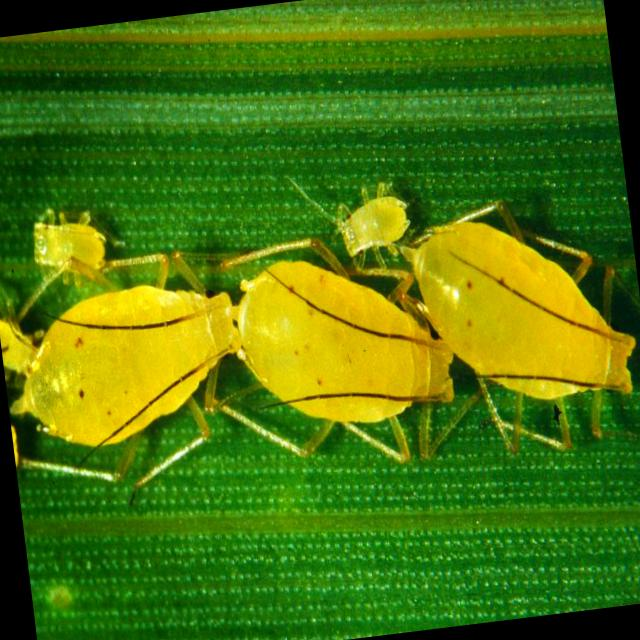Aphids: (398, 159, 640, 464), (12, 217, 266, 487), (210, 200, 456, 462), (23, 192, 119, 302), (325, 172, 423, 276)
